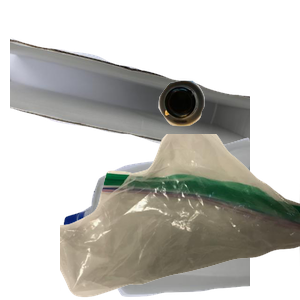cardboard: (10, 35, 250, 188)
glass: (156, 78, 300, 197)
plastic: (60, 135, 300, 300)
trash: (60, 134, 300, 300)
